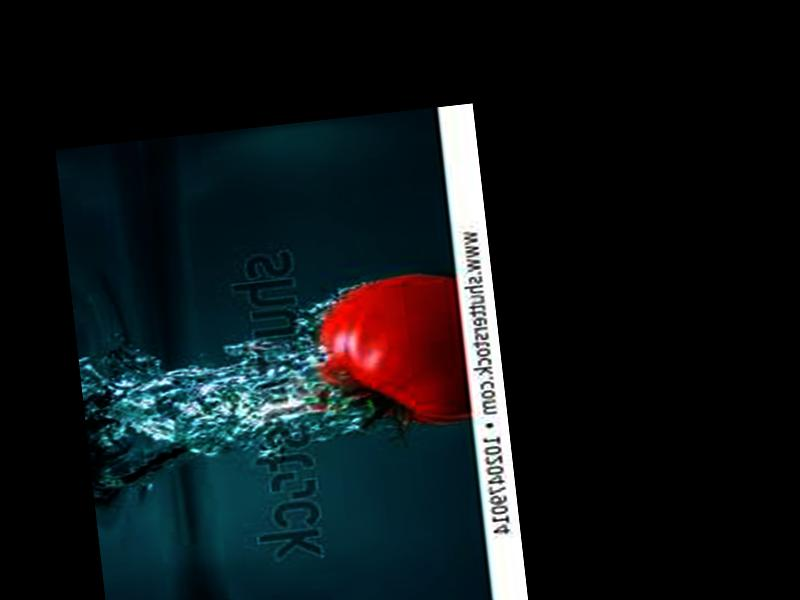Tomato: (311, 270, 472, 438)
